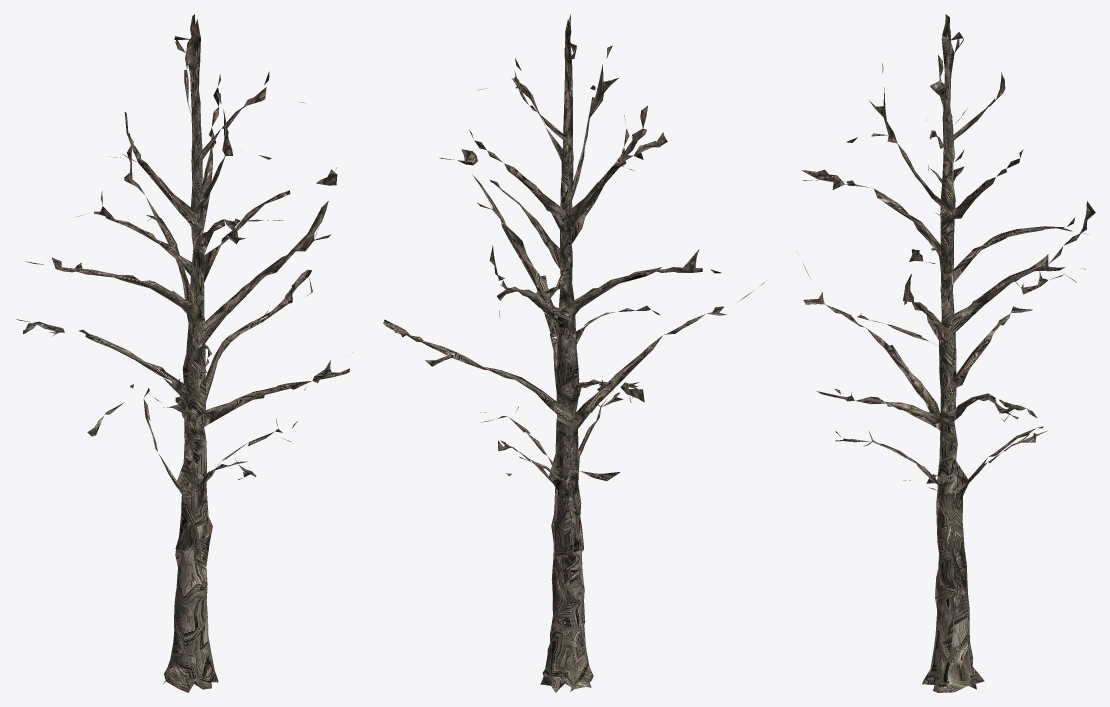
File: tree-b.glb
3 views of the same model, side by side, from view 1: azimuth 30°, elevation 25°; view 2: azimuth 150°, elevation 25°; view 3: azimuth 270°, elevation 25° (orthographic).
Bounding box in the file's own units: 0.889 × 1.81 × 0.7342.
1 material, 1 textured.
